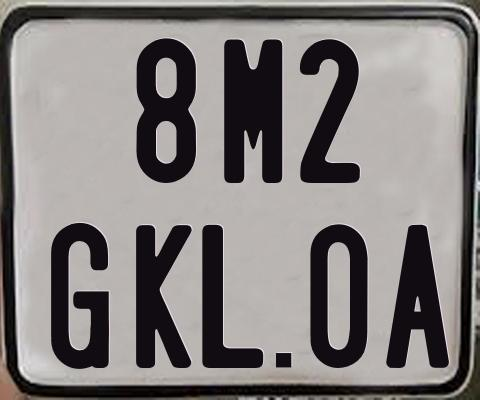0: (310, 224, 369, 373)
2: (299, 37, 359, 186)
8: (134, 37, 195, 186)
A: (385, 222, 453, 367)
G: (51, 220, 115, 369)
K: (133, 224, 192, 371)
L: (202, 225, 269, 374)
M: (222, 38, 285, 184)
